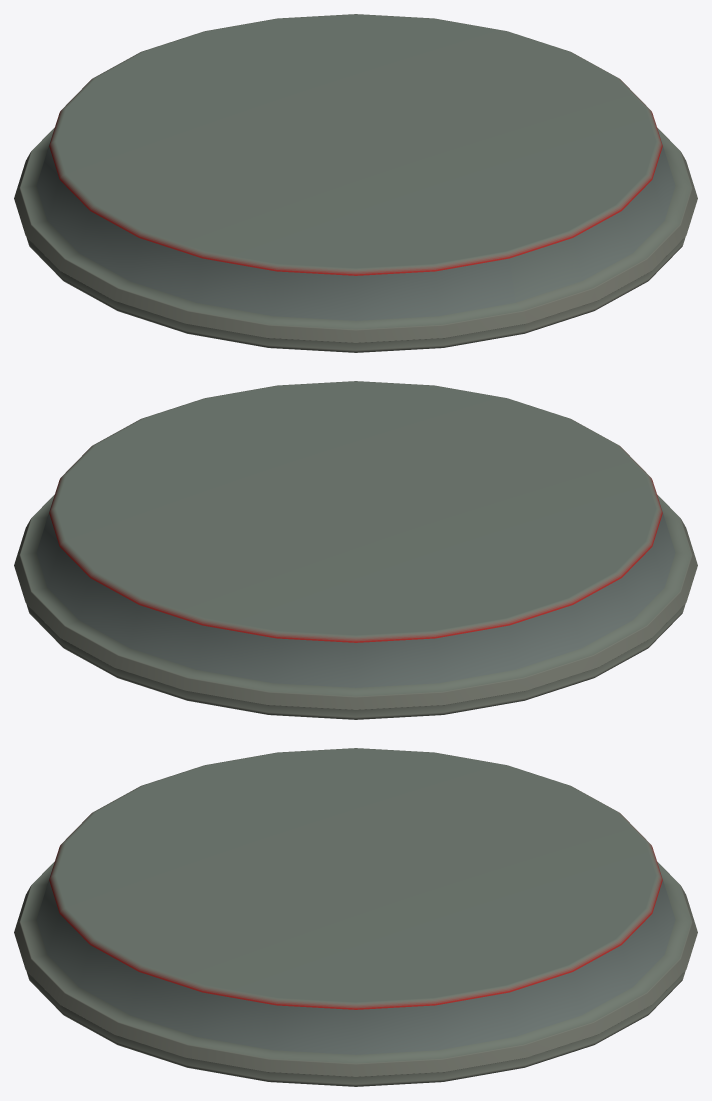
The model's file is Tile_City_Soft.fbx.
3 views of the same model, one above another, from view 1: azimuth 30°, elevation 25°; view 2: azimuth 150°, elevation 25°; view 3: azimuth 270°, elevation 25° (orthographic).
Visible parts, largest first — view 1: Tile_City_Soft; view 2: Tile_City_Soft; view 3: Tile_City_Soft.
Boxes of the visible parts, <box> form: Tile_City_Soft: <box>14,14,697,352</box>; Tile_City_Soft: <box>14,381,697,719</box>; Tile_City_Soft: <box>14,748,697,1086</box>.
Bounding box in the file's own units: 100 × 11.85 × 100.
